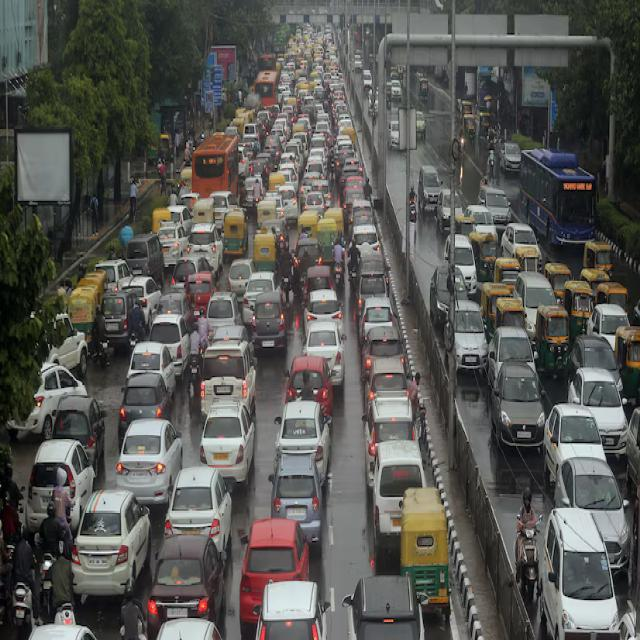Vehicles: (374, 457, 452, 618), (67, 468, 161, 595), (548, 512, 628, 640), (565, 451, 637, 573), (394, 470, 450, 615), (542, 403, 618, 507), (515, 146, 591, 244), (562, 359, 632, 462), (568, 322, 625, 433), (490, 358, 550, 458), (30, 436, 91, 534), (209, 345, 273, 437), (362, 378, 418, 482), (262, 464, 331, 537), (116, 360, 176, 442), (46, 380, 109, 458), (345, 571, 413, 640), (250, 259, 295, 356), (151, 310, 198, 395), (191, 133, 236, 219), (358, 316, 407, 394), (300, 310, 348, 385), (98, 290, 148, 361), (179, 471, 235, 533), (530, 302, 572, 381), (574, 270, 628, 331), (128, 342, 182, 401), (452, 294, 486, 381), (583, 285, 625, 353), (428, 256, 472, 320), (202, 281, 245, 344), (356, 252, 397, 318), (444, 228, 486, 290), (153, 210, 189, 282), (133, 232, 177, 284), (561, 278, 593, 345), (227, 203, 257, 270), (614, 328, 640, 404), (315, 218, 349, 276), (476, 167, 509, 225), (251, 229, 284, 286), (260, 202, 294, 257), (302, 241, 335, 297), (503, 216, 539, 265), (306, 275, 342, 322), (293, 199, 322, 257), (518, 521, 538, 602), (188, 192, 222, 237), (415, 170, 450, 210), (496, 290, 524, 338), (438, 185, 468, 229), (11, 582, 34, 638), (485, 278, 511, 321), (473, 224, 496, 272), (252, 65, 278, 106), (41, 540, 56, 606), (500, 138, 527, 174), (328, 203, 352, 243), (494, 252, 516, 284), (57, 603, 76, 638), (362, 61, 374, 96), (307, 154, 319, 189), (390, 81, 406, 106), (269, 166, 286, 188), (330, 154, 353, 170), (408, 198, 417, 232), (284, 92, 296, 105), (346, 124, 356, 138), (296, 120, 302, 138)
